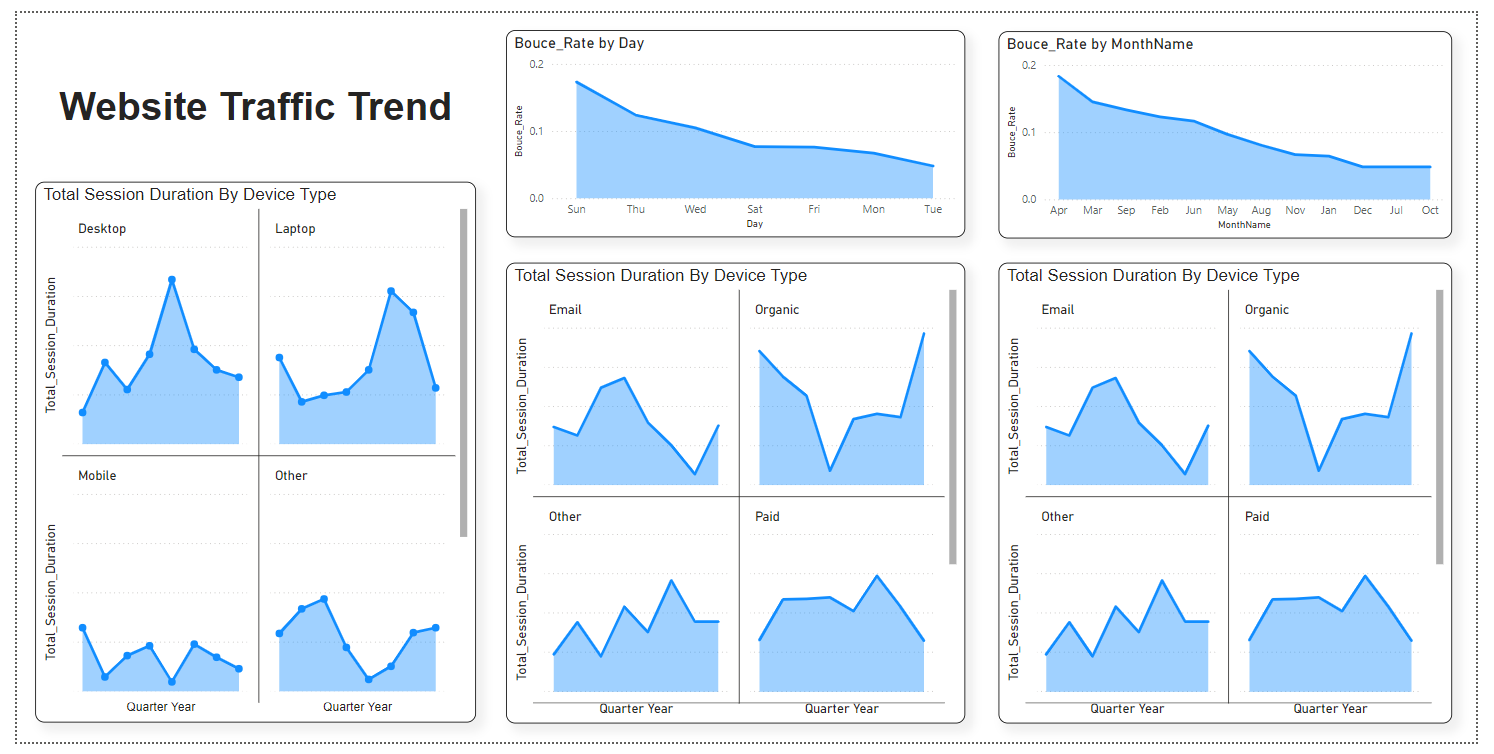

This screenshot's page, from the dashboard's own definition file:
{"tool":"powerbi","page":{"name":"Website Traffic Trend","canvas":[1600,800],"ordinal":2},"visuals":[{"type":"areaChart","title":"Total Session Duration By Device Type","fields":{"Y":["#Measures.Total_Session_Duration"],"Category":["Date_Lookup.Quarter","Date_Lookup.Year"],"Rows":["Device_Lookup.Device_Type"]},"box":[20.1,185.4,483.5,593.1],"z":0},{"type":"areaChart","title":"Total Session Duration By Device Type","fields":{"Y":["#Measures.Total_Session_Duration"],"Category":["Date_Lookup.Quarter","Date_Lookup.Year"],"Rows":["Source_Lookup.Website_Traffic_Sources"]},"box":[536,273.4,503.5,505.1],"z":1000},{"type":"areaChart","title":"Total Session Duration By Device Type","fields":{"Y":["#Measures.Total_Session_Duration"],"Category":["Date_Lookup.Quarter","Date_Lookup.Year"],"Rows":["Source_Lookup.Website_Traffic_Sources"]},"box":[1076.6,273.4,497.4,505.1],"z":2000},{"type":"areaChart","fields":{"Y":["#Measures.Bouce_Rate"],"Category":["Date_Lookup.Day"]},"box":[536,18.5,503.5,227.1],"z":3000},{"type":"textbox","box":[20.1,37.1,483.5,126.7],"z":4000},{"type":"areaChart","fields":{"Y":["#Measures.Bouce_Rate"],"Category":["Date_Lookup.MonthName"]},"box":[1076.6,20.1,497.4,227.1],"z":5000}]}

Visuals, with their boxes in screenshot pixels (x1, y1, x2, y2), scaled from the page's 1600x800 canvas onto the 1494x754 screenshot:
"Total Session Duration By Device Type" areaChart: (19, 175, 470, 734)
"Total Session Duration By Device Type" areaChart: (500, 258, 971, 734)
"Total Session Duration By Device Type" areaChart: (1005, 258, 1470, 734)
areaChart - #Measures.Bouce_Rate x Date_Lookup.Day: (500, 17, 971, 231)
textbox: (19, 35, 470, 154)
areaChart - #Measures.Bouce_Rate x Date_Lookup.MonthName: (1005, 19, 1470, 233)
